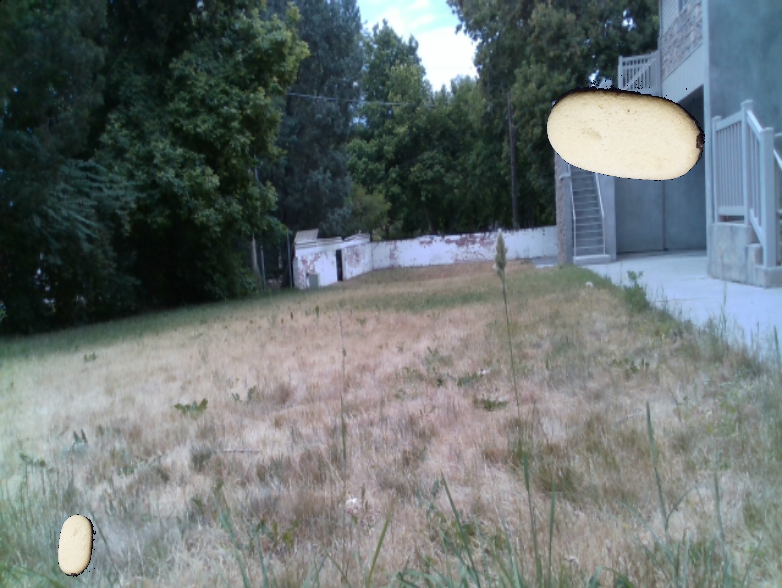test: (528, 27, 730, 229), (38, 507, 117, 586)
